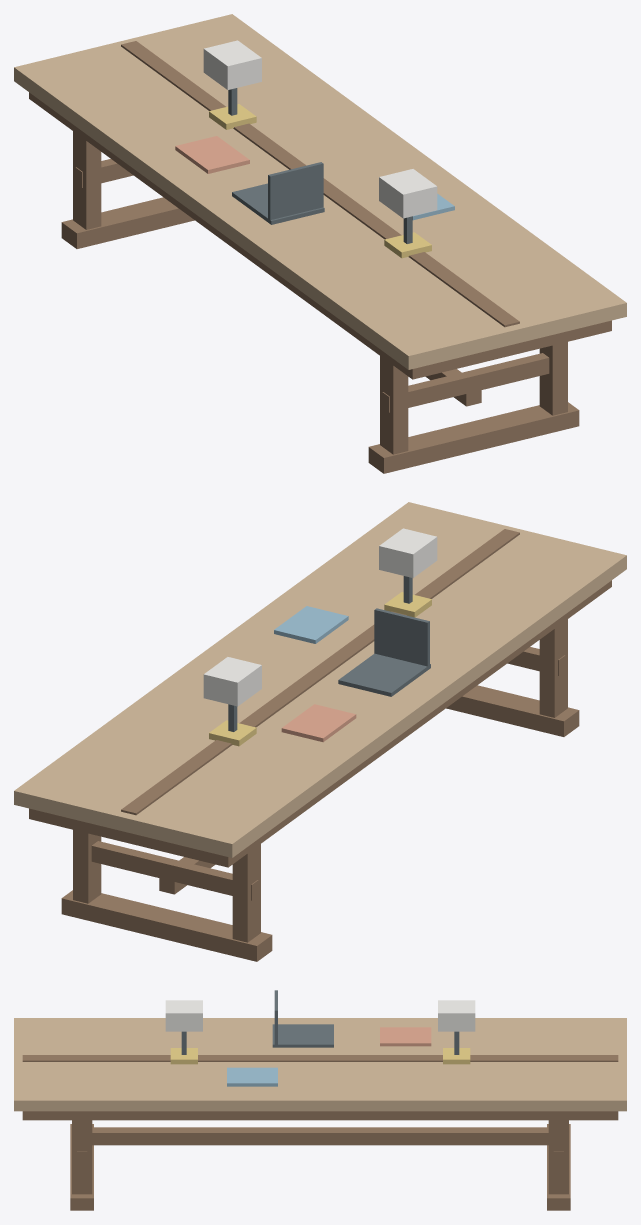
File: Study_Table.glb
3 renders of one model, top to bottom at view 1: azimuth 30°, elevation 25°; view 2: azimuth 150°, elevation 25°; view 3: azimuth 270°, elevation 25°, orthographic. The views are drawn at different scales.
Visible parts, largest first — view 1: Study_Table; view 2: Study_Table; view 3: Study_Table.
Boxes of the visible parts, x1,y1,x2,y2 form: Study_Table: (14, 14, 626, 473); Study_Table: (14, 502, 626, 961); Study_Table: (14, 990, 626, 1210).
Size of the model in its own units: 1.15 by 1.08 by 3.6.
